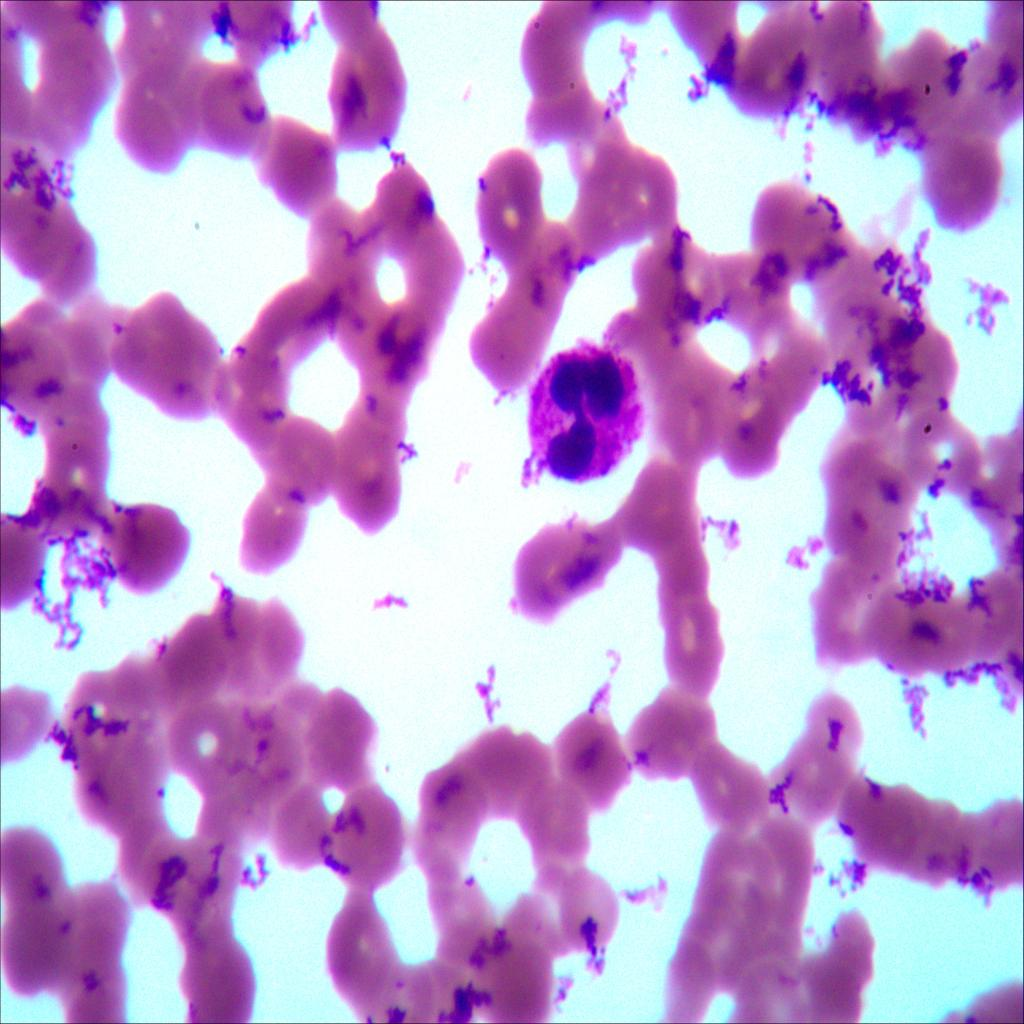Neutrofil: (523, 332, 645, 488)
